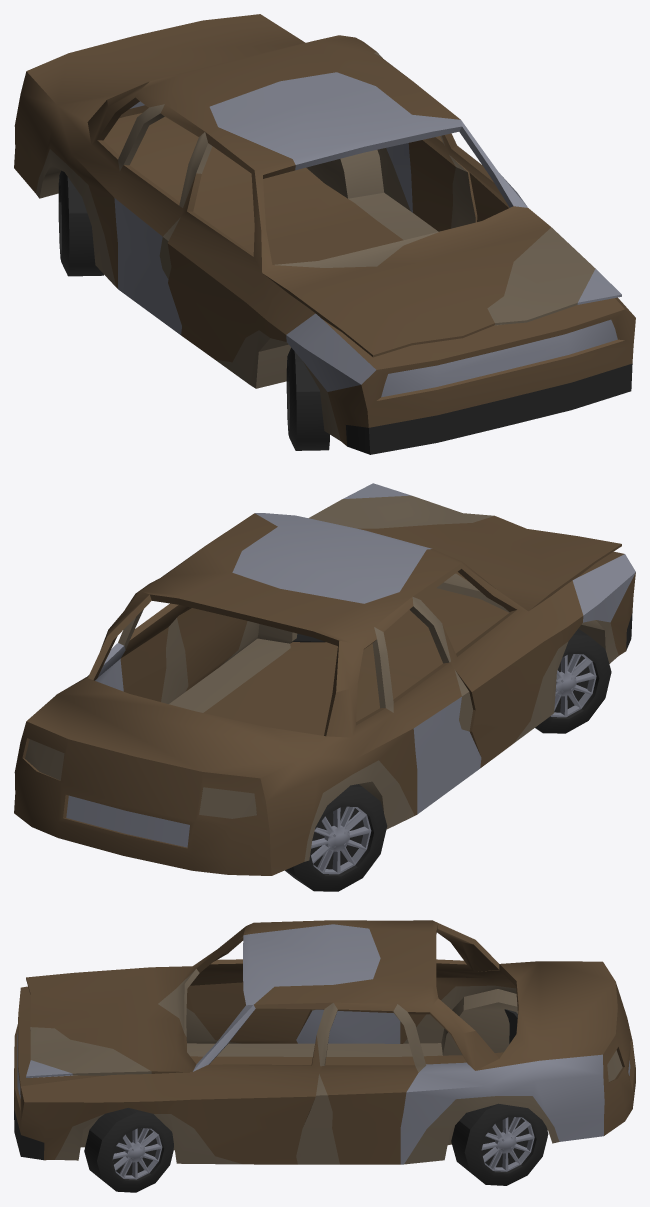
The model's file is car_old_free.glb.
3 views of the same model, one above another, from view 1: azimuth 30°, elevation 25°; view 2: azimuth 150°, elevation 25°; view 3: azimuth 270°, elevation 25° (orthographic). The views are drawn at different scales.
Visible parts, largest first — view 1: Debris_BrokenCar; view 2: Debris_BrokenCar; view 3: Debris_BrokenCar.
Part boxes in pixels (left/top/right/bottom): Debris_BrokenCar: left=14, top=14, right=635, bottom=454; Debris_BrokenCar: left=14, top=483, right=635, bottom=891; Debris_BrokenCar: left=14, top=920, right=635, bottom=1192.
Bounding box in the file's own units: 2.64 × 1.76 × 5.49.
